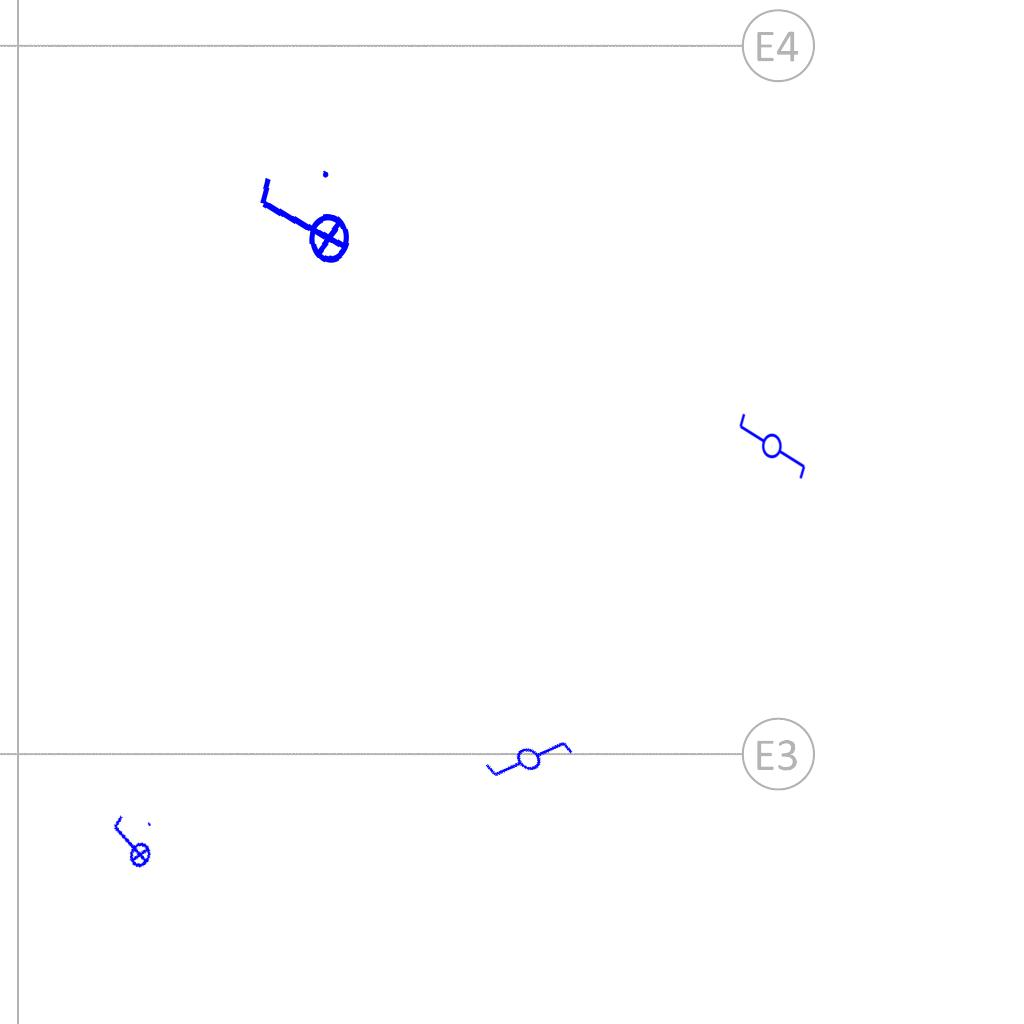Ausschalter_beleuchtet: (250, 163, 354, 283), (99, 809, 161, 877)
Wechselschalter: (473, 704, 579, 808), (737, 403, 809, 481)
